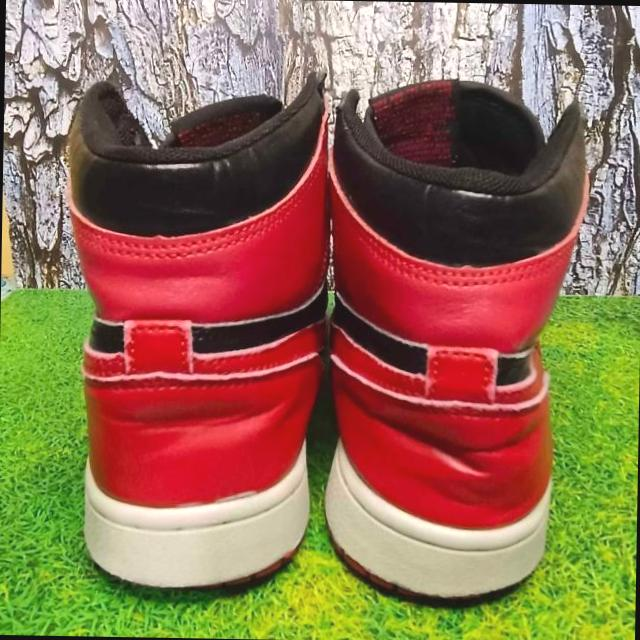nike_fake_jordan: (50, 64, 337, 594), (320, 72, 592, 604)
